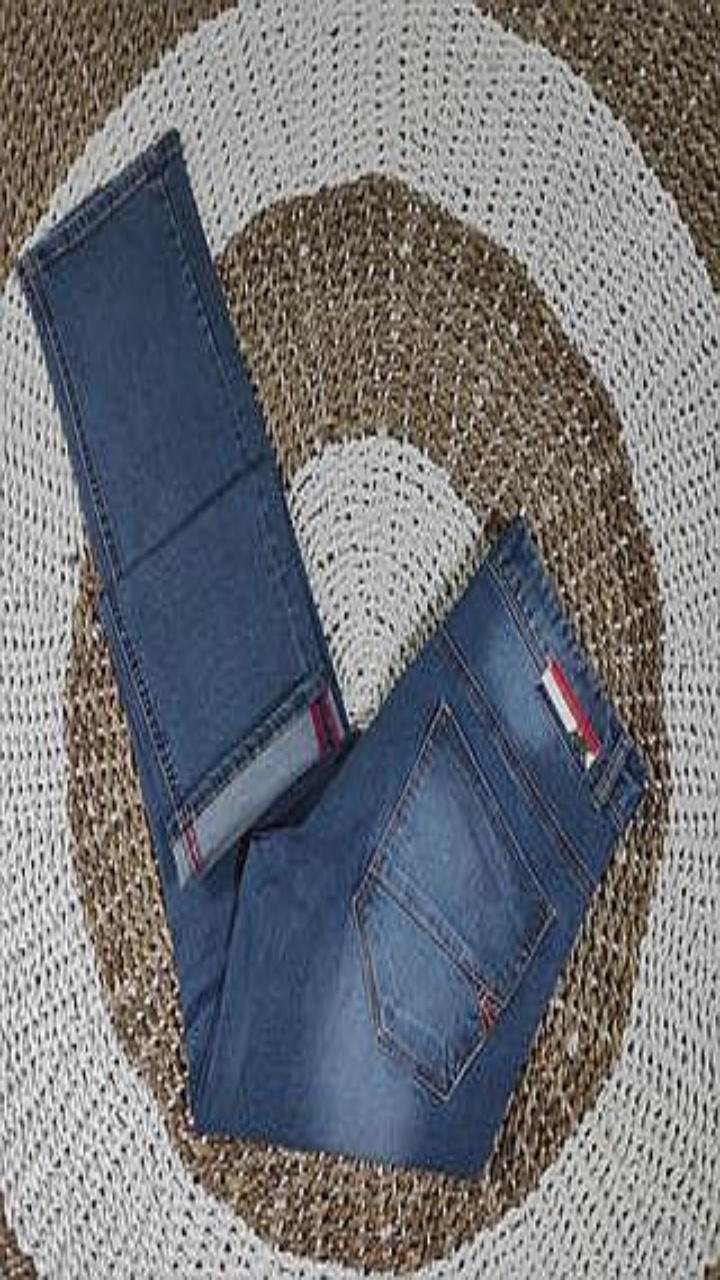Jeans: (19, 132, 644, 1173)
